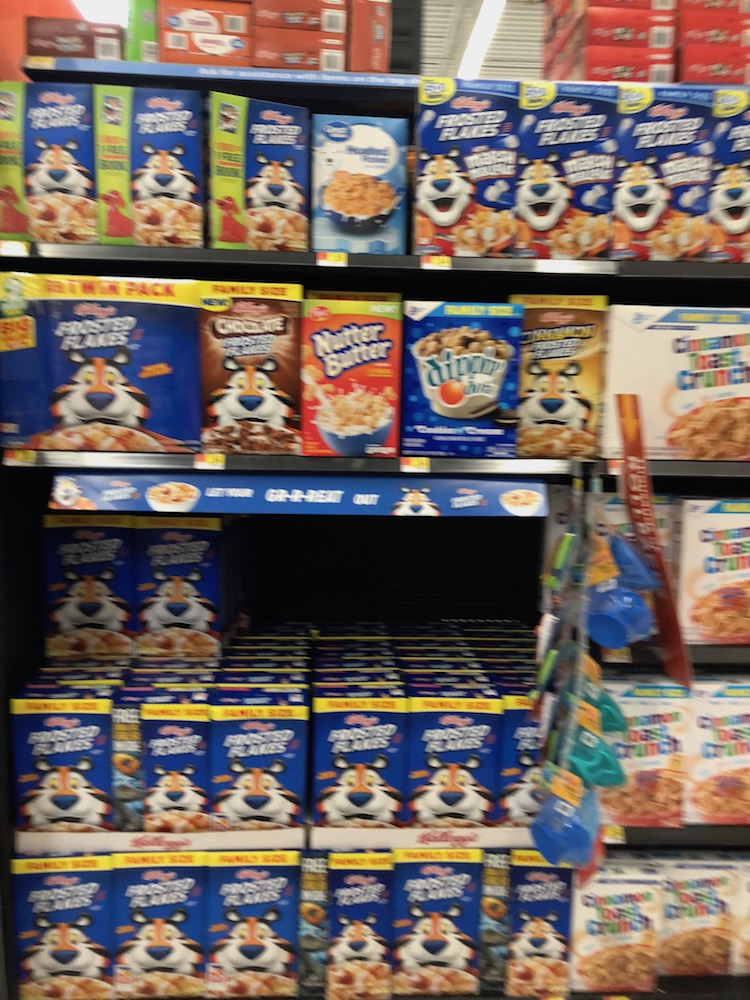Dippin Dots Cookies & Cream -568929378: (397, 287, 523, 462)
Nutter Butter-565717511: (291, 291, 408, 469)
